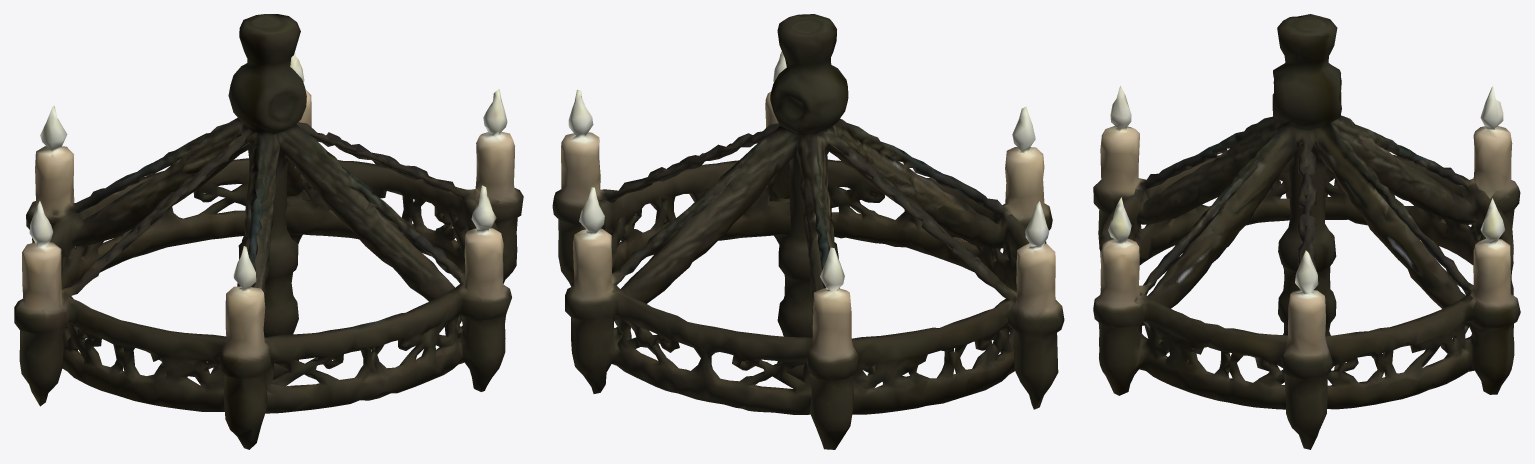
File: halloween-chandelier.glb
The picture shows the model from 3 angles, left to right: view 1: azimuth 30°, elevation 25°; view 2: azimuth 150°, elevation 25°; view 3: azimuth 270°, elevation 25°; orthographic projection. The views are drawn at different scales.
Parts seen in each view (by area): view 1: geometry_0; view 2: geometry_0; view 3: geometry_0.
Boxes of the visible parts, x1,y1,x2,y2 form: geometry_0: [14, 14, 523, 449]; geometry_0: [552, 14, 1064, 449]; geometry_0: [1093, 14, 1520, 449].
Bounding box in the file's own units: 1.9 × 1.34 × 1.44.
1 material, 1 textured.
